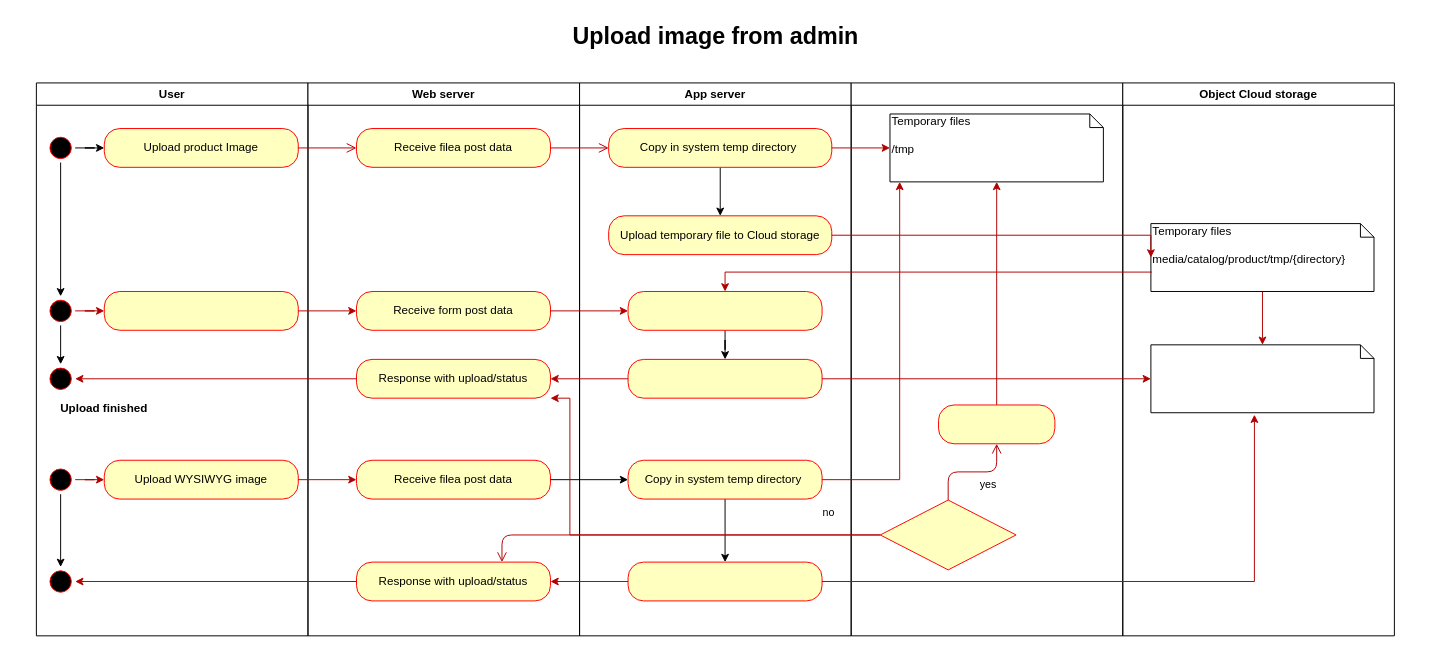
Image size: 1430x653. Some labels were removed from this diagram. Each missing label, with the box of its shape:
App server Disk/Mounted disk: (850, 82, 1123, 636)
Permanent directory media/catalog/product/{directory}: (1150, 344, 1374, 413)
Read from temporary directory: (627, 291, 822, 330)
Remove temporary files: (938, 404, 1055, 444)
Save product: (103, 291, 298, 330)
Upload permant file to Cloud storage: (627, 561, 822, 601)
Upload to permanent directory: (627, 358, 822, 398)
Uploaded: (879, 499, 1016, 570)
